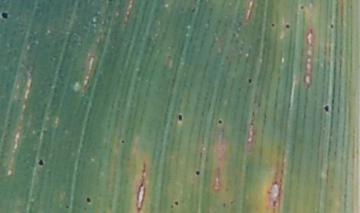tarspot: (176, 113, 184, 123), (194, 168, 202, 178), (1, 11, 9, 20), (35, 158, 43, 167), (84, 196, 93, 204), (323, 104, 330, 114), (215, 118, 223, 126), (169, 202, 176, 211), (246, 77, 253, 85), (221, 201, 227, 210), (284, 23, 291, 30), (329, 22, 335, 30), (298, 4, 306, 10), (173, 199, 179, 207), (63, 204, 71, 209), (270, 22, 276, 28), (119, 138, 125, 144)
